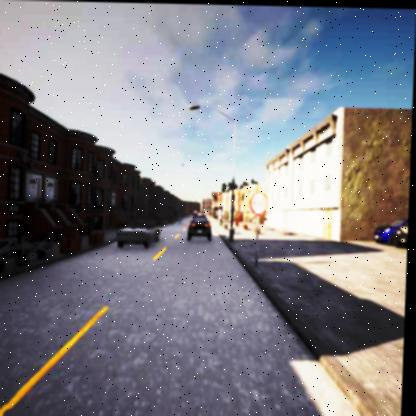vehicle: (118, 219, 160, 248), (376, 214, 409, 245), (188, 214, 212, 239)
